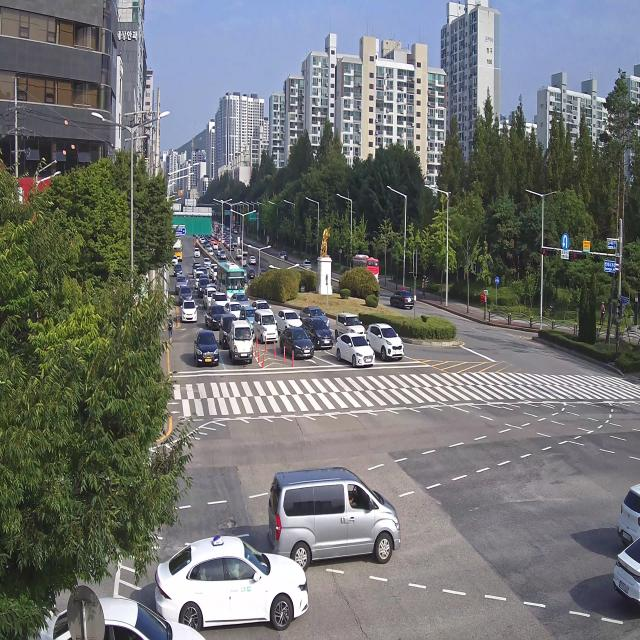Bus: (215, 260, 247, 310)
Car: (148, 523, 314, 635), (263, 459, 408, 568), (333, 331, 377, 375), (362, 322, 405, 364), (276, 323, 316, 363), (190, 326, 220, 370), (334, 308, 368, 344), (303, 315, 336, 352), (253, 309, 280, 347), (298, 304, 331, 330), (276, 307, 304, 337), (390, 284, 413, 314), (204, 303, 226, 328), (181, 296, 199, 326), (247, 267, 256, 281), (203, 255, 212, 269), (174, 264, 184, 276), (193, 245, 201, 259), (249, 253, 257, 265)
Truck: (228, 318, 254, 366)
